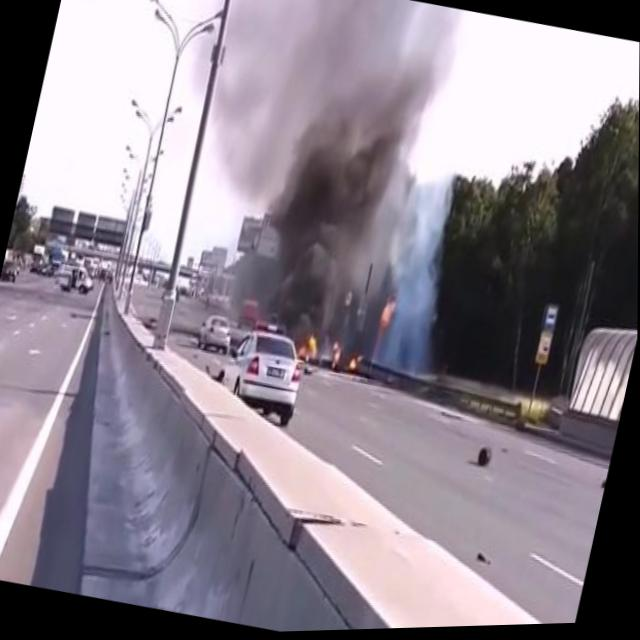fire: (328, 334, 366, 375), (295, 330, 329, 368), (376, 291, 402, 333)
